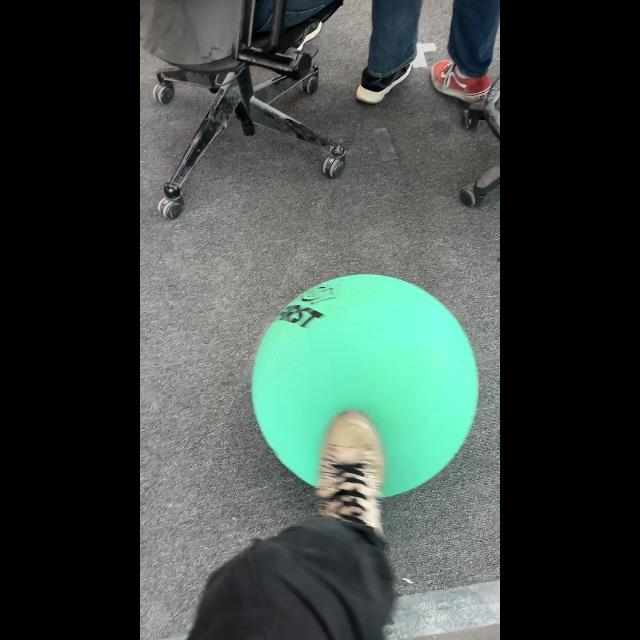ALGAE: (250, 273, 480, 499)
